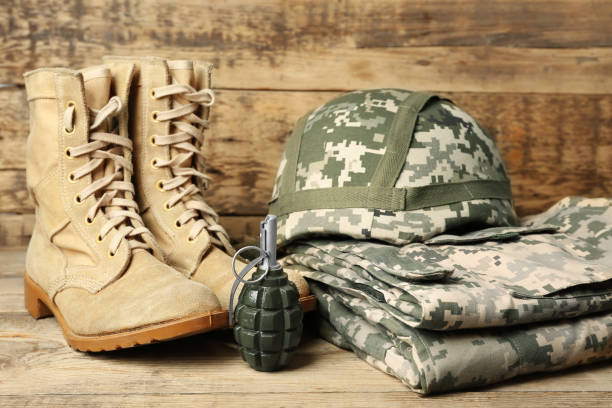e1: (228, 216, 303, 373)
